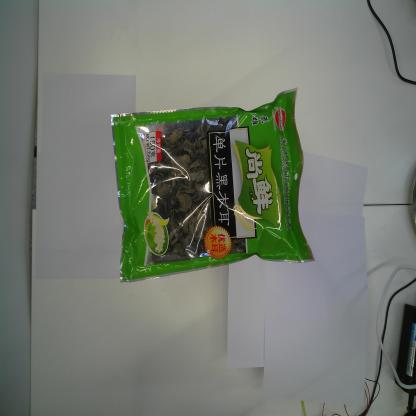Dried Food: (108, 84, 316, 287)
